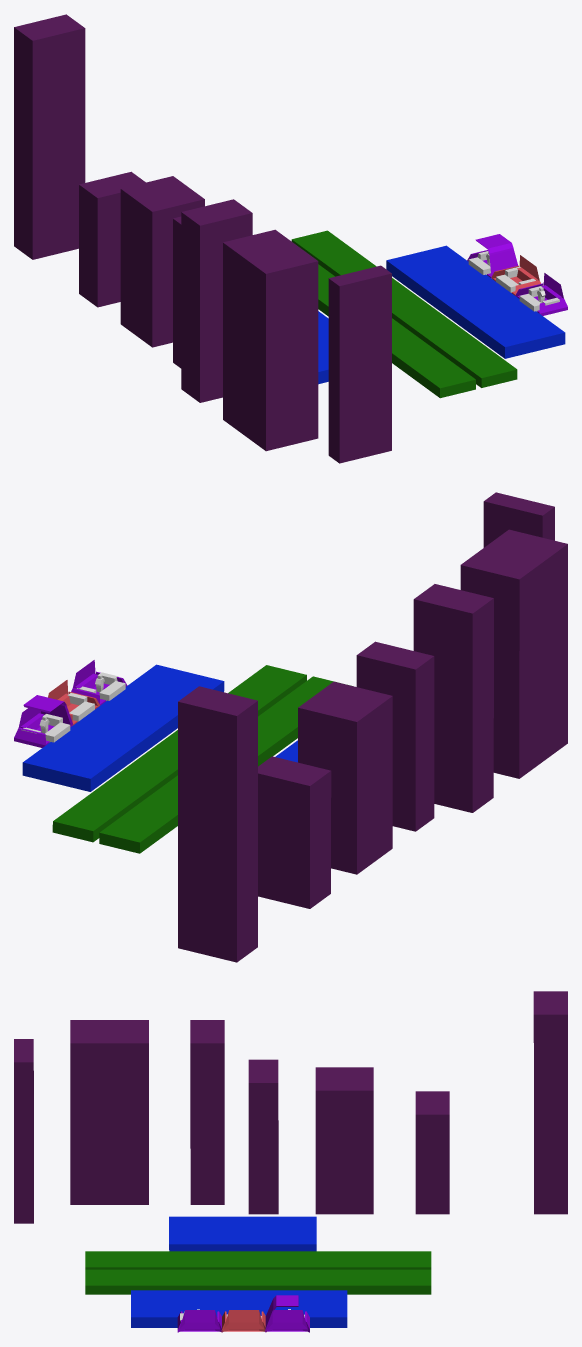
File: env1.fbx
3 renders of one model, top to bottom at view 1: azimuth 30°, elevation 25°; view 2: azimuth 150°, elevation 25°; view 3: azimuth 270°, elevation 25°, orthographic. The views are drawn at different scales.
Visible parts, largest first — view 1: Cube.014, Cube.007, Cube.009, Cube.003, Cube.008, Cube.006, Cube.002, Cube.010, Cube.005, Cube.015, Cube.016, Cube.004 (+1 smaller); view 2: Cube.007, Cube.014, Cube.006, Cube.008, Cube.003, Cube.002, Cube.010, Cube.005, Cube.009, Cube.015, Cube.016; view 3: Cube.014, Cube.003, Cube.008, Cube.007, Cube.006, Cube.002, Cube.004, Cube.005, Cube.010, Cube.009, Cube.015, Cube (+1 smaller).
Boxes of the visible parts, <box> form: Cube.014: <box>223,229,318,451</box>; Cube.007: <box>14,14,85,259</box>; Cube.009: <box>328,265,391,463</box>; Cube.003: <box>291,230,517,398</box>; Cube.008: <box>120,176,204,347</box>; Cube.006: <box>181,199,252,402</box>; Cube.002: <box>386,245,565,358</box>; Cube.010: <box>79,171,145,307</box>; Cube.005: <box>173,216,181,368</box>; Cube.015: <box>467,234,517,278</box>; Cube.016: <box>515,273,567,315</box>; Cube.004: <box>318,311,328,384</box>; Cube.007: <box>178,686,257,962</box>; Cube.014: <box>460,529,567,778</box>; Cube.006: <box>413,584,493,812</box>; Cube.008: <box>298,681,392,874</box>; Cube.003: <box>52,665,351,853</box>; Cube.002: <box>22,664,224,791</box>; Cube.010: <box>258,756,331,908</box>; Cube.005: <box>356,641,434,831</box>; Cube.009: <box>483,492,554,547</box>; Cube.015: <box>14,695,73,747</box>; Cube.016: <box>71,660,127,705</box>; Cube.014: <box>70,1020,148,1204</box>; Cube.003: <box>85,1251,431,1294</box>; Cube.008: <box>315,1067,373,1214</box>; Cube.007: <box>533,991,567,1214</box>; Cube.006: <box>190,1020,224,1204</box>; Cube.002: <box>131,1290,347,1327</box>; Cube.004: <box>169,1216,316,1251</box>; Cube.005: <box>248,1059,278,1214</box>; Cube.010: <box>415,1091,449,1214</box>; Cube.009: <box>14,1039,33,1223</box>; Cube.015: <box>265,1295,309,1332</box>; Cube: <box>221,1310,266,1332</box>.
Size of what is drawn, in the model's own units: 20900 by 12126 by 30499.
